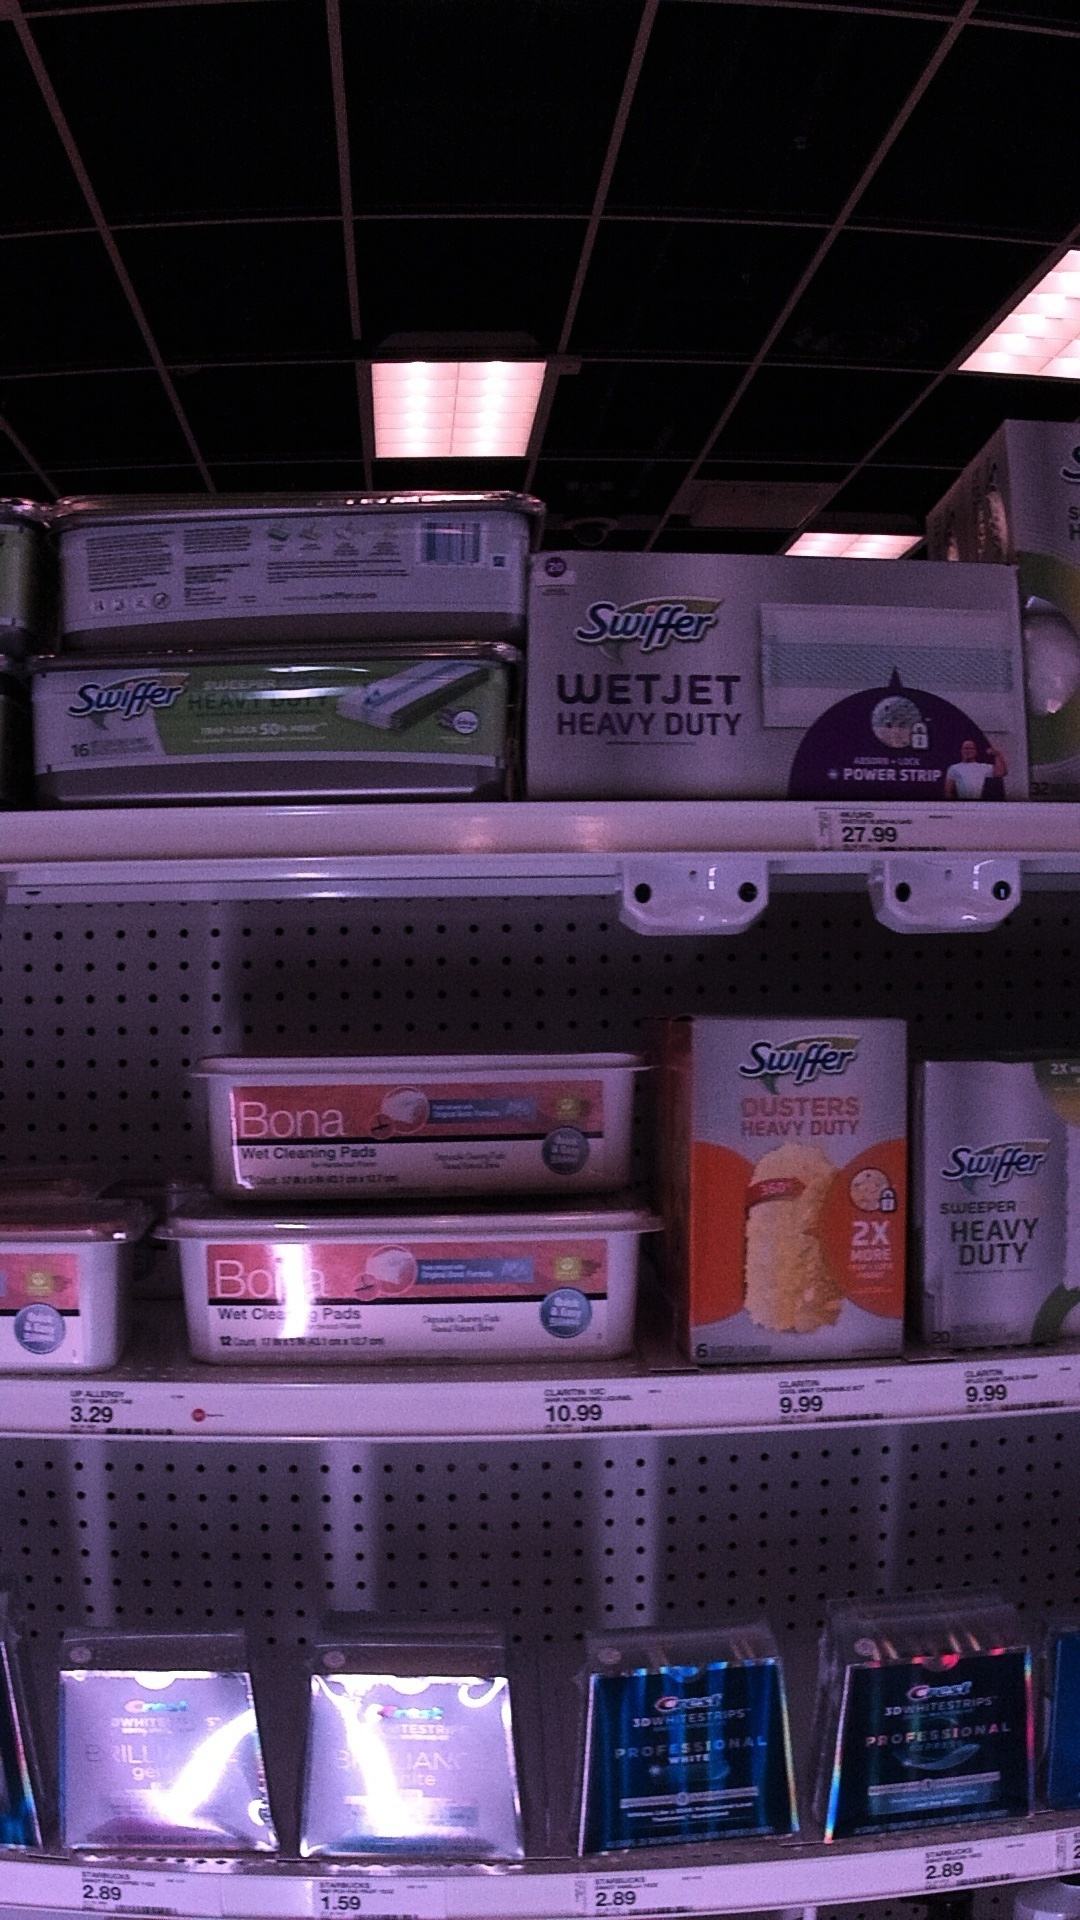ptag: (818, 793, 964, 860), (529, 1371, 662, 1440), (757, 1366, 891, 1431), (953, 1356, 1077, 1420), (62, 1377, 191, 1437), (589, 1866, 709, 1920), (73, 1866, 185, 1920), (311, 1873, 436, 1920), (918, 1840, 1033, 1888)
